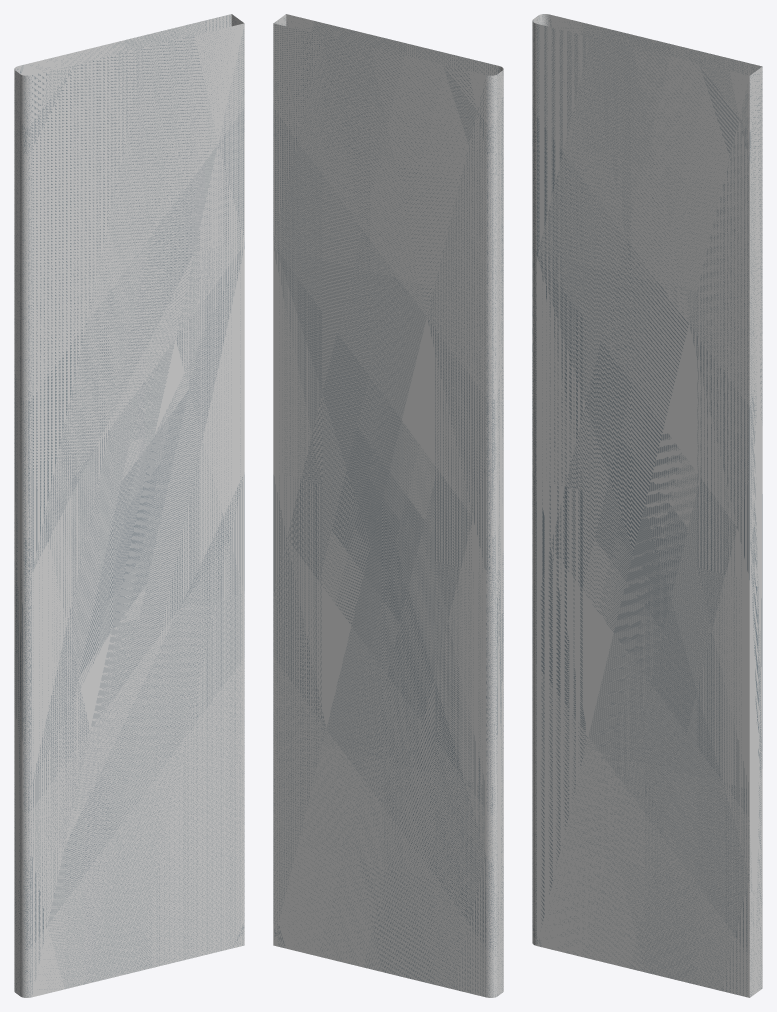
The model's file is SingleFixColumn_ds_T2_100.dae.
3 renders of one model, left to right at view 1: azimuth 30°, elevation 25°; view 2: azimuth 150°, elevation 25°; view 3: azimuth 330°, elevation 25°, orthographic.
Parts seen in each view (by area): view 1: group_0; view 2: group_0; view 3: group_0.
Part boxes in pixels (x1=…): group_0: x1=14, y1=14, x2=244, y2=997; group_0: x1=273, y1=14, x2=503, y2=997; group_0: x1=532, y1=14, x2=762, y2=997.
Size of the model in its own units: 39.37 by 3.94 by 157.
